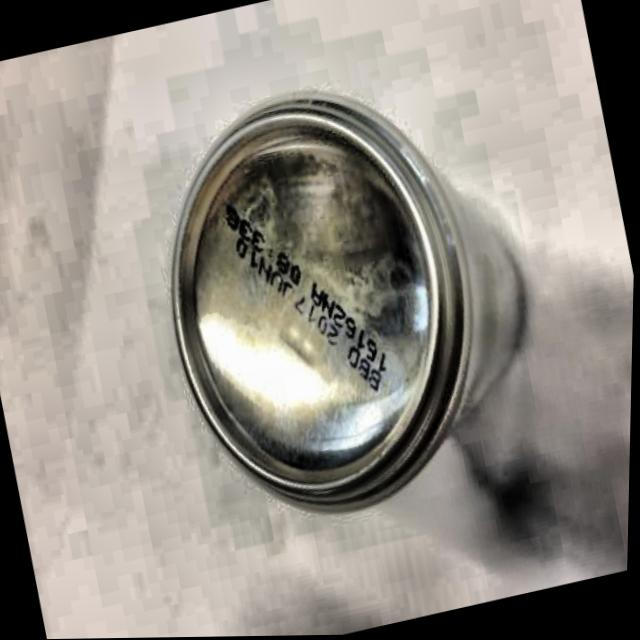Cans: (115, 41, 582, 557)
